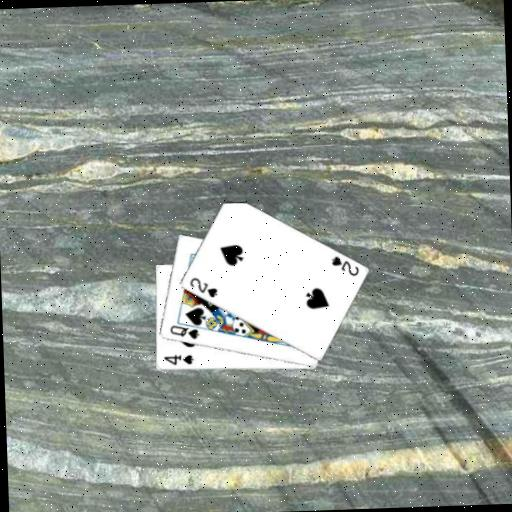2S: (186, 273, 219, 300), (327, 252, 360, 279)
4S: (160, 351, 195, 367)
QS: (166, 321, 200, 341)
